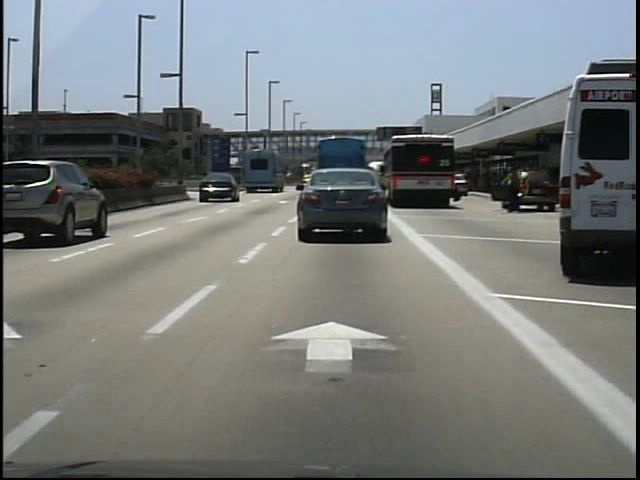person: (502, 164, 524, 217)
